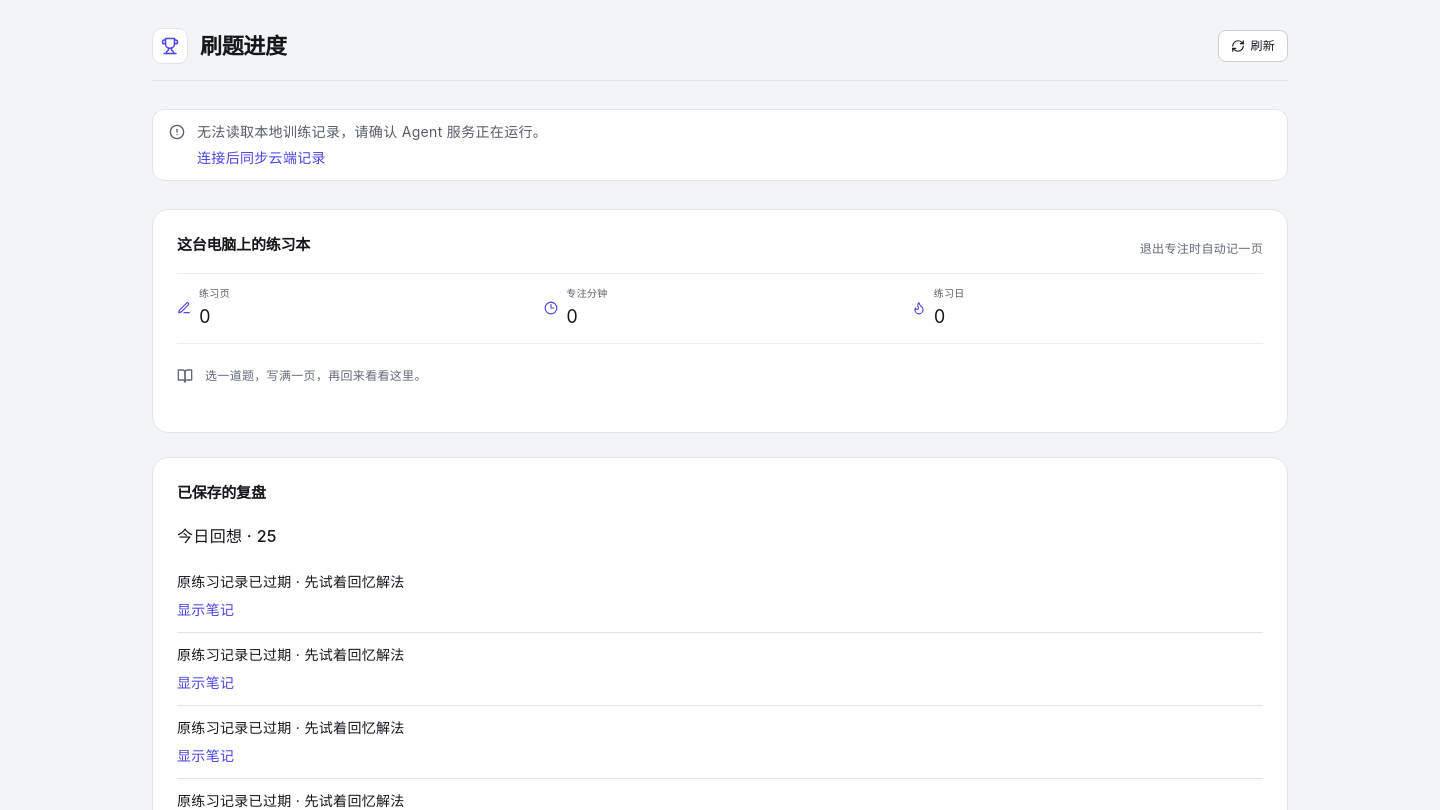
shows one review round at a time and keeps the rest due until earlier ones are rated
Click the 1st button "显示笔记" at (206, 610), box left=177, top=600, right=234, bottom=620
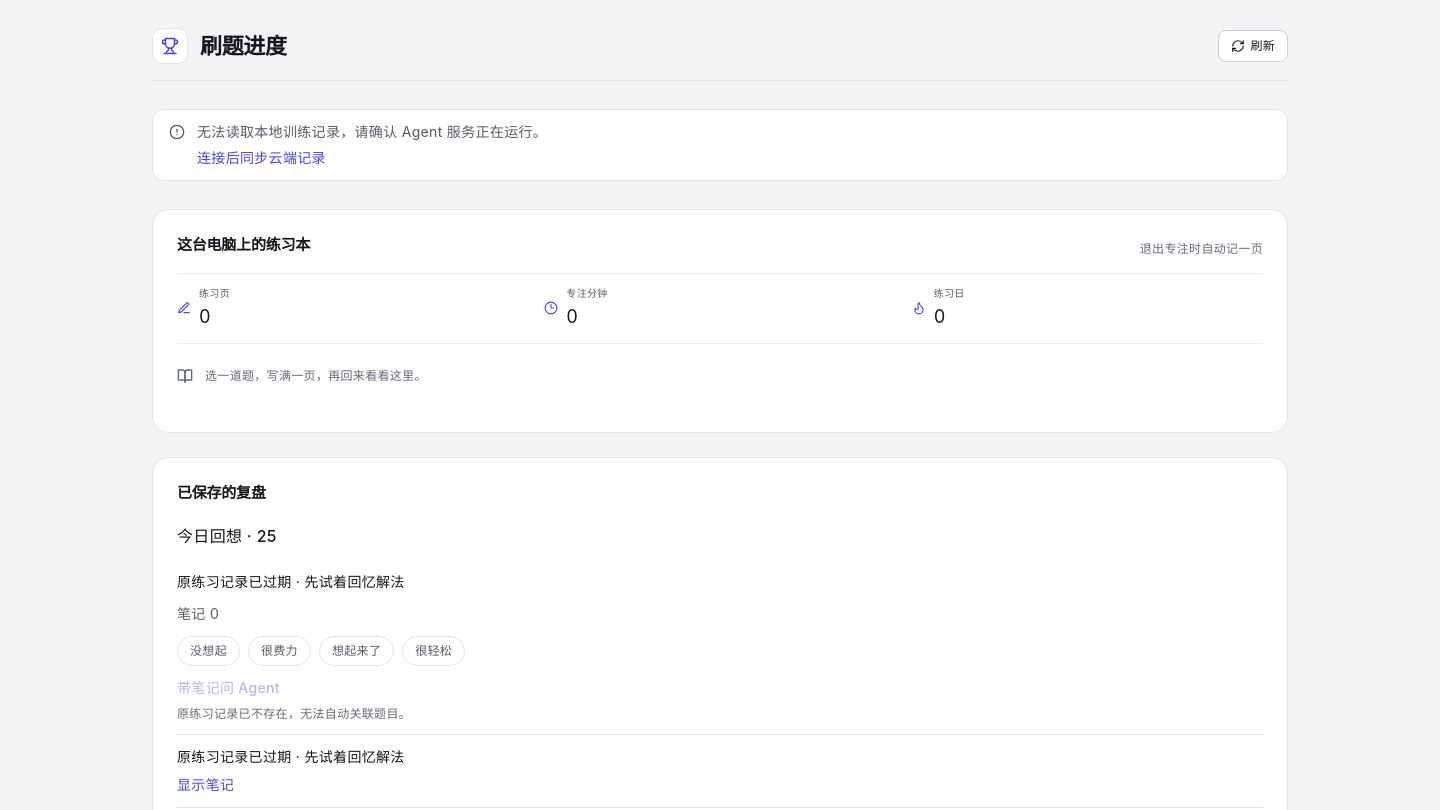
Click the button "想起来了" at (357, 651), box left=319, top=636, right=394, bottom=666
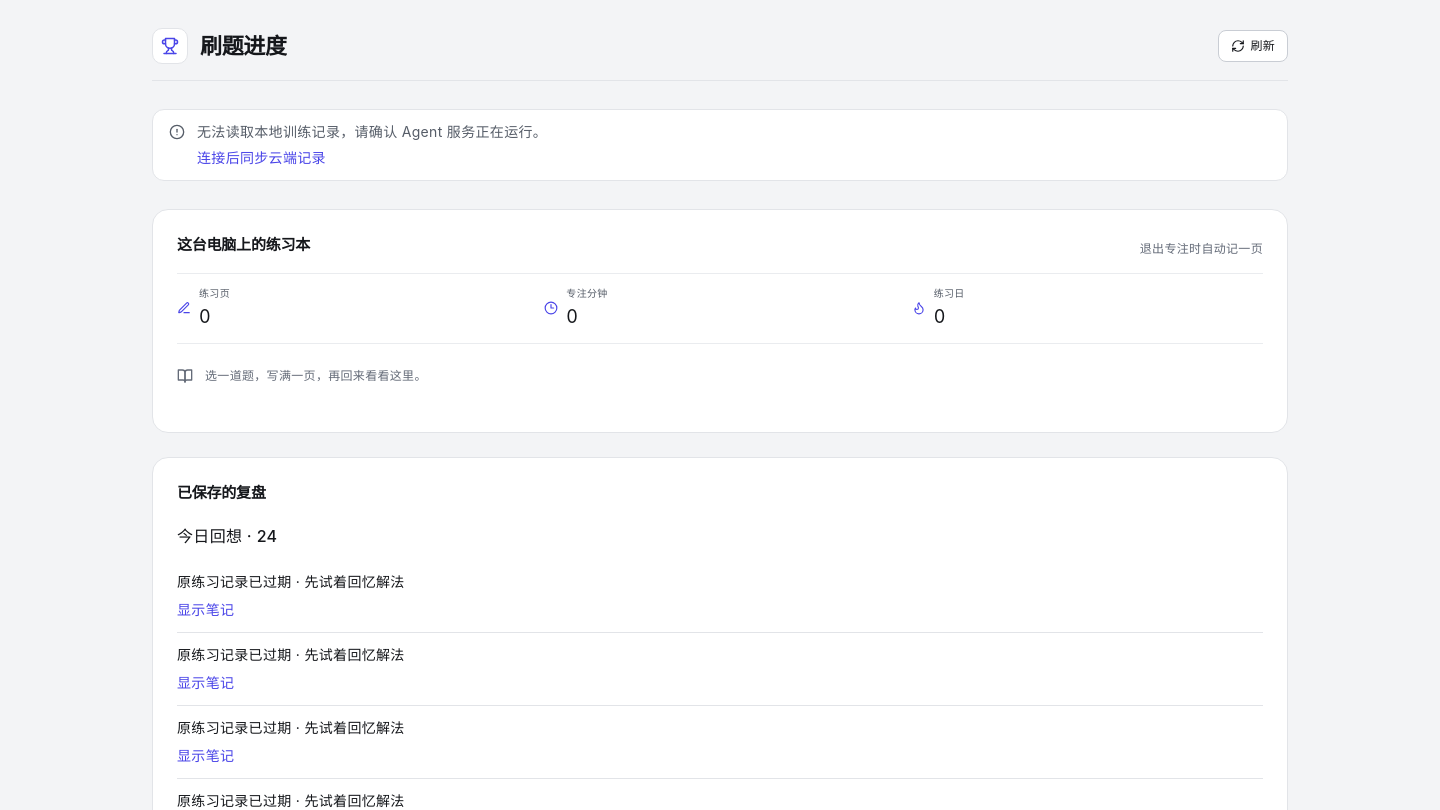
Check: the text "今日回想 · 24" is shown, box left=177, top=526, right=277, bottom=546
